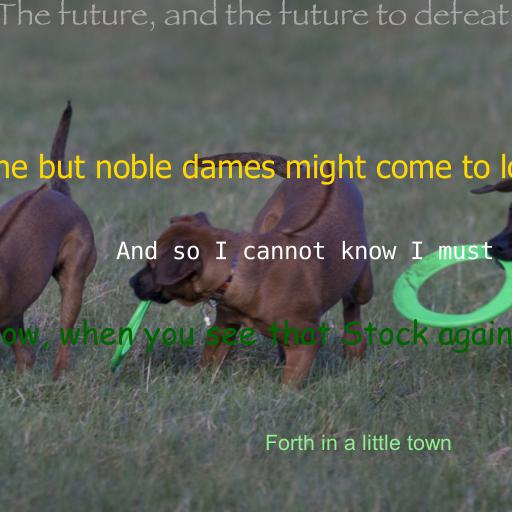Arial: (264, 434, 452, 451)
Comic Sans MS: (0, 319, 512, 354)
Menlo: (116, 240, 494, 260)
Papyrus: (0, 0, 512, 31)
Tahoma: (0, 153, 512, 185)
